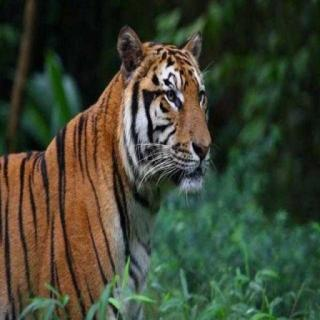Tiger: (1, 20, 240, 320)
